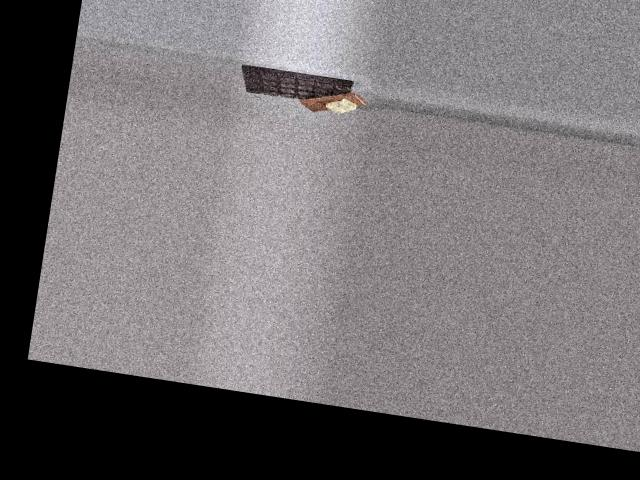chocolate: (237, 60, 361, 112)
